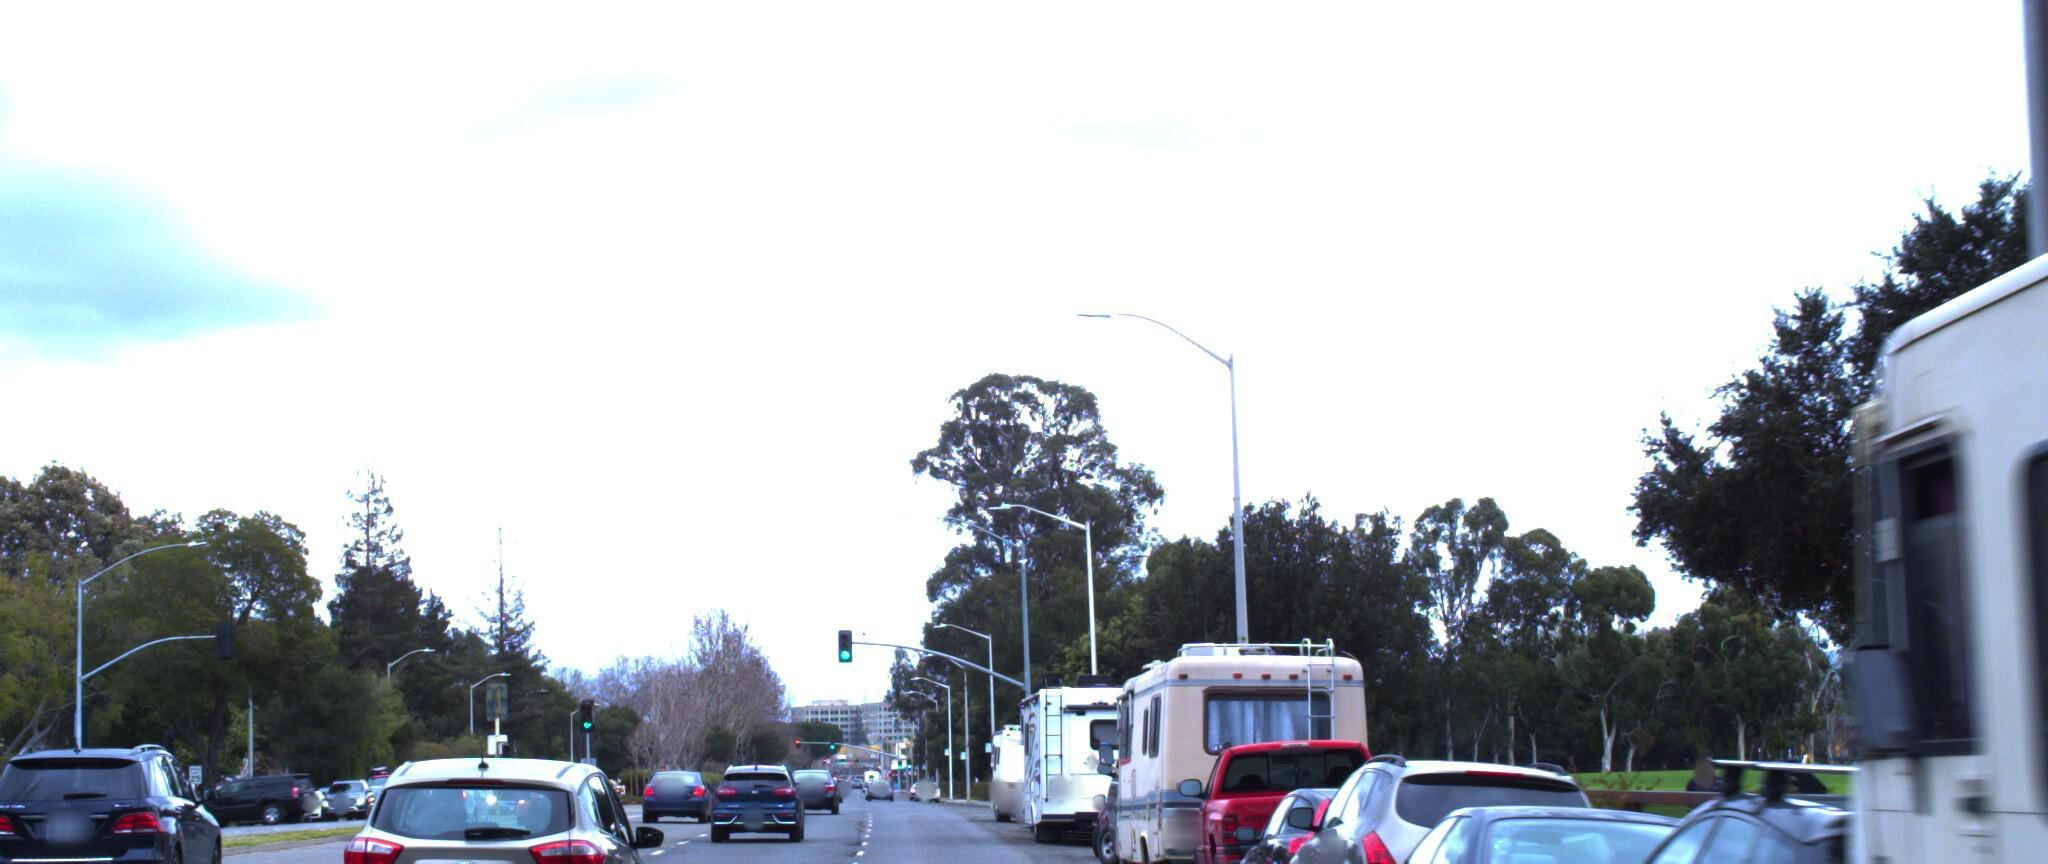car: (1506, 747, 2048, 864), (1275, 747, 1643, 864), (327, 748, 673, 864), (1332, 790, 1816, 864), (1190, 735, 1433, 864), (0, 739, 246, 864), (1233, 780, 1480, 864), (716, 765, 816, 844), (644, 767, 724, 827)
other_vehicle: (1753, 0, 2048, 864), (1112, 629, 1387, 864), (1020, 675, 1189, 847), (994, 720, 1095, 825)
